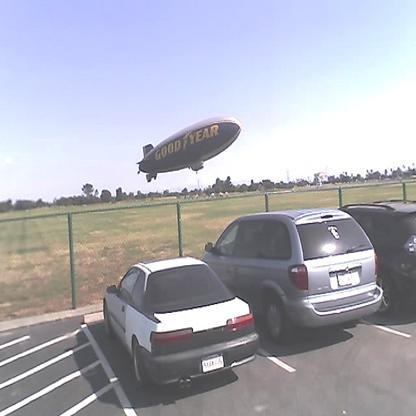Airship: (136, 114, 246, 184)
